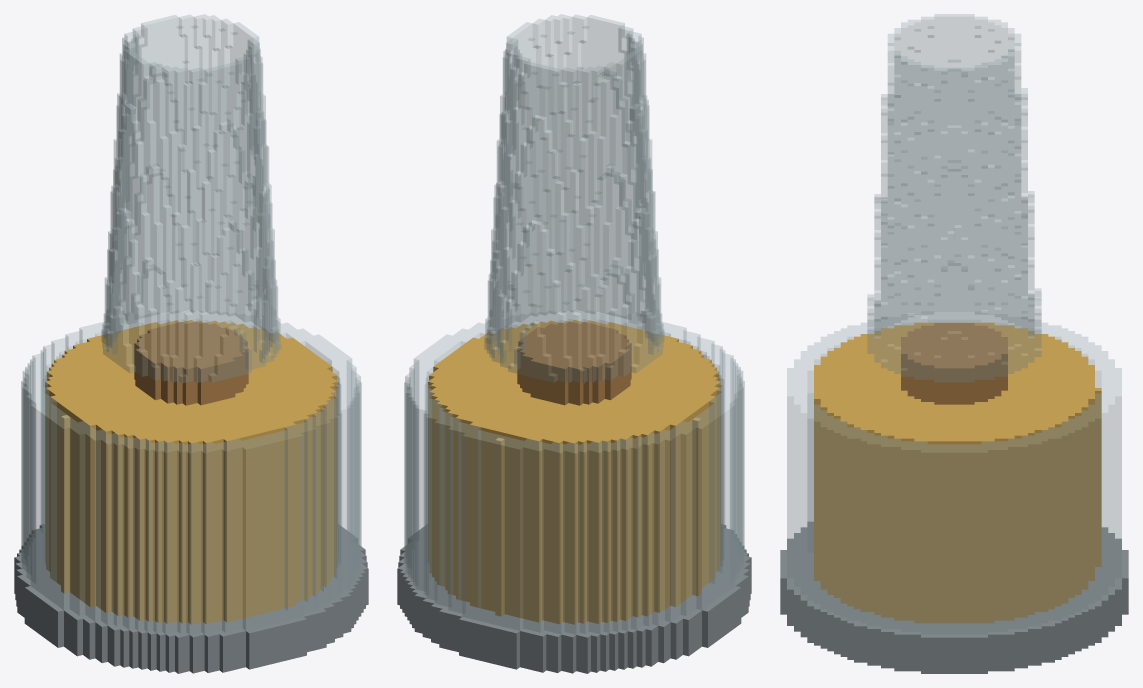
The model's file is oil_lamp.glb.
3 views of the same model, side by side, from view 1: azimuth 30°, elevation 25°; view 2: azimuth 150°, elevation 25°; view 3: azimuth 270°, elevation 25° (orthographic).
Visible parts, largest first — view 1: fuel_fill:fuel_fill, reservoir:reservoir, chimney:chimney, base:base, burner:burner; view 2: fuel_fill:fuel_fill, reservoir:reservoir, chimney:chimney, base:base, burner:burner; view 3: fuel_fill:fuel_fill, reservoir:reservoir, chimney:chimney, base:base, burner:burner.
Part boxes in pixels (<box>): fuel_fill:fuel_fill: <box>45,320,337,624</box>; reservoir:reservoir: <box>21,311,361,634</box>; chimney:chimney: <box>101,14,281,383</box>; base:base: <box>14,524,368,673</box>; burner:burner: <box>134,321,248,405</box>; fuel_fill:fuel_fill: <box>428,320,720,624</box>; reservoir:reservoir: <box>404,311,744,634</box>; chimney:chimney: <box>484,14,664,383</box>; base:base: <box>397,524,751,673</box>; burner:burner: <box>517,321,631,405</box>; fuel_fill:fuel_fill: <box>814,322,1101,623</box>; reservoir:reservoir: <box>787,312,1121,634</box>; chimney:chimney: <box>867,14,1041,381</box>; base:base: <box>780,522,1128,673</box>; burner:burner: <box>901,323,1007,404</box>.
Bounding box in the file's own units: 0.104 × 0.184 × 0.104.
